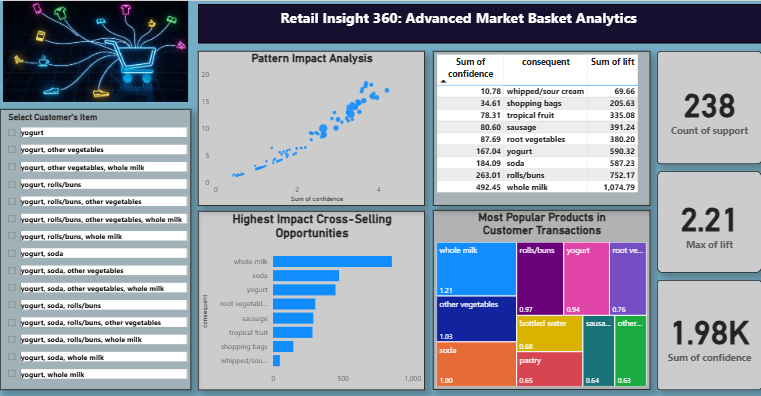

The dashboard page shown, as its layout file describes it:
{"tool":"powerbi","page":{"name":"Page 1","canvas":[1280,720],"ordinal":0},"visuals":[{"type":"clusteredBarChart","title":"Highest Impact Cross-Selling Opportunities","fields":{"Y":["CountNonNull(part-00000-99f73d2a-12e4-4591-bca3-24cb6b863094-c000.antecedent)"],"Category":["part-00000-99f73d2a-12e4-4591-bca3-24cb6b863094-c000.consequent"]},"box":[332.6,408.2,381.3,300.7],"z":0},{"type":"treemap","title":"Most Popular Products in Customer Transactions","fields":{"Group":["part-00000-99f73d2a-12e4-4591-bca3-24cb6b863094-c000.antecedent"],"Values":["Sum(part-00000-99f73d2a-12e4-4591-bca3-24cb6b863094-c000.support)"]},"box":[727.3,406.5,364.5,302.4],"z":1000},{"type":"slicer","fields":{"Values":["part-00000-99f73d2a-12e4-4591-bca3-24cb6b863094-c000.antecedent"]},"box":[0,236.9,320.8,472],"z":2000},{"type":"tableEx","fields":{"Values":["Sum(part-00000-99f73d2a-12e4-4591-bca3-24cb6b863094-c000.confidence)","part-00000-99f73d2a-12e4-4591-bca3-24cb6b863094-c000.consequent","Sum(part-00000-99f73d2a-12e4-4591-bca3-24cb6b863094-c000.lift)"]},"box":[727.3,139.4,364.5,260.4],"z":3000},{"type":"scatterChart","title":"Pattern Impact Analysis","fields":{"X":["Sum(part-00000-99f73d2a-12e4-4591-bca3-24cb6b863094-c000.confidence)"],"Y":["Sum(part-00000-99f73d2a-12e4-4591-bca3-24cb6b863094-c000.lift)"],"Size":["Sum(part-00000-99f73d2a-12e4-4591-bca3-24cb6b863094-c000.support)"],"Category":["part-00000-99f73d2a-12e4-4591-bca3-24cb6b863094-c000.antecedent"]},"box":[332.6,139.4,381.3,260.4],"z":4000},{"type":"textbox","box":[332.6,60.5,947.4,65.5],"z":5000},{"type":"image","box":[0,42,320.8,194.9],"z":6000},{"type":"card","fields":{"Values":["Count(part-00000-99f73d2a-12e4-4591-bca3-24cb6b863094-c000.support)"]},"box":[1103.6,139.4,176.4,189.8],"z":7000},{"type":"card","fields":{"Values":["Max(part-00000-99f73d2a-12e4-4591-bca3-24cb6b863094-c000.lift)"]},"box":[1103.6,341,176.4,171.3],"z":8000},{"type":"card","fields":{"Values":["Sum(part-00000-99f73d2a-12e4-4591-bca3-24cb6b863094-c000.confidence)"]},"box":[1103.6,524.1,176.4,184.8],"z":9000}]}

Visuals, with their boxes in screenshot pixels (x1, y1, x2, y2):
"Highest Impact Cross-Selling Opportunities" clusteredBarChart: l=194, t=214, r=417, b=390
"Most Popular Products in Customer Transactions" treemap: l=424, t=213, r=637, b=390
slicer - part-00000-99f73d2a-12e4-4591-bca3-24cb6b863094-c000.antecedent: l=0, t=114, r=187, b=390
tableEx - Sum(part-00000-99f73d2a-12e4-4591-bca3-24cb6b863094-c000.confidence) x part-00000-99f73d2a-12e4-4591-bca3-24cb6b863094-c000.consequent: l=424, t=58, r=637, b=210
"Pattern Impact Analysis" scatterChart: l=194, t=58, r=417, b=210
textbox: l=194, t=12, r=747, b=50
image: l=0, t=1, r=187, b=114
card - Count(part-00000-99f73d2a-12e4-4591-bca3-24cb6b863094-c000.support): l=644, t=58, r=747, b=168
card - Max(part-00000-99f73d2a-12e4-4591-bca3-24cb6b863094-c000.lift): l=644, t=175, r=747, b=275
card - Sum(part-00000-99f73d2a-12e4-4591-bca3-24cb6b863094-c000.confidence): l=644, t=282, r=747, b=390
